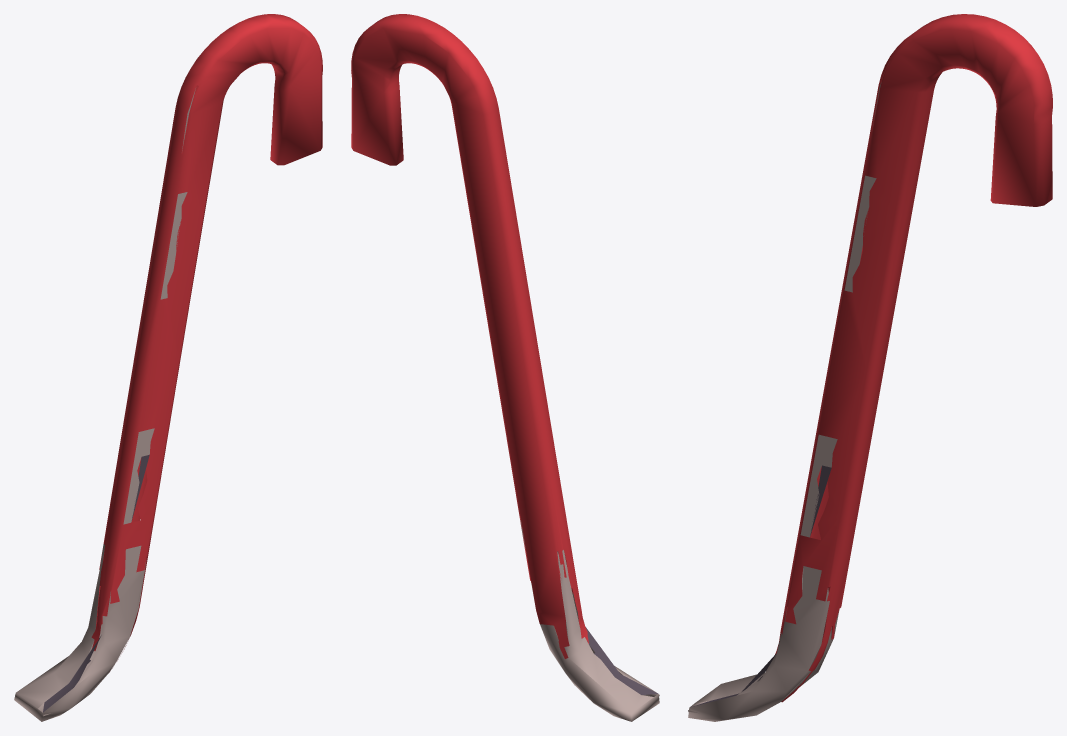
3 views of the same model, side by side, from view 1: azimuth 30°, elevation 25°; view 2: azimuth 150°, elevation 25°; view 3: azimuth 330°, elevation 25° (orthographic). The views are drawn at different scales.
Size of the model in its own units: 0.3926 by 0.821 by 0.067.
